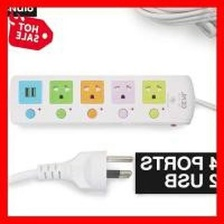three_eye_plug: (7, 72, 200, 129)
